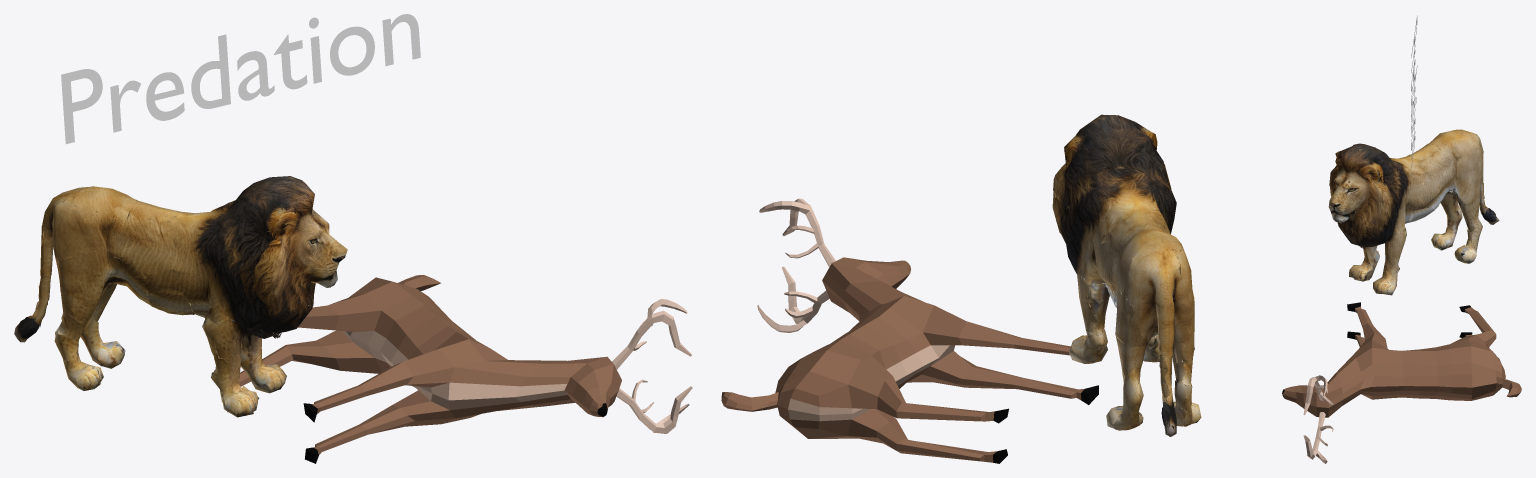
The model's file is predation.gltf.
3 renders of one model, left to right at view 1: azimuth 30°, elevation 25°; view 2: azimuth 150°, elevation 25°; view 3: azimuth 270°, elevation 25°, orthographic. The views are drawn at different scales.
Visible parts, largest first — view 1: Mesh_0_Material_0_0, 05deerFinal, Text; view 2: 05deerFinal, Mesh_0_Material_0_0; view 3: Mesh_0_Material_0_0, 05deerFinal, Text.
Part boxes in pixels (left/top/right/bottom): Mesh_0_Material_0_0: left=14, top=176, right=347, bottom=417; 05deerFinal: left=239, top=275, right=692, bottom=463; Text: left=61, top=14, right=420, bottom=144; 05deerFinal: left=721, top=198, right=1098, bottom=463; Mesh_0_Material_0_0: left=1052, top=114, right=1201, bottom=436; Mesh_0_Material_0_0: left=1328, top=129, right=1499, bottom=295; 05deerFinal: left=1282, top=302, right=1521, bottom=463; Text: left=1411, top=15, right=1417, bottom=167.
Bounding box in the file's own units: 2.22 × 1.65 × 1.27.
2 materials, 2 textured.
